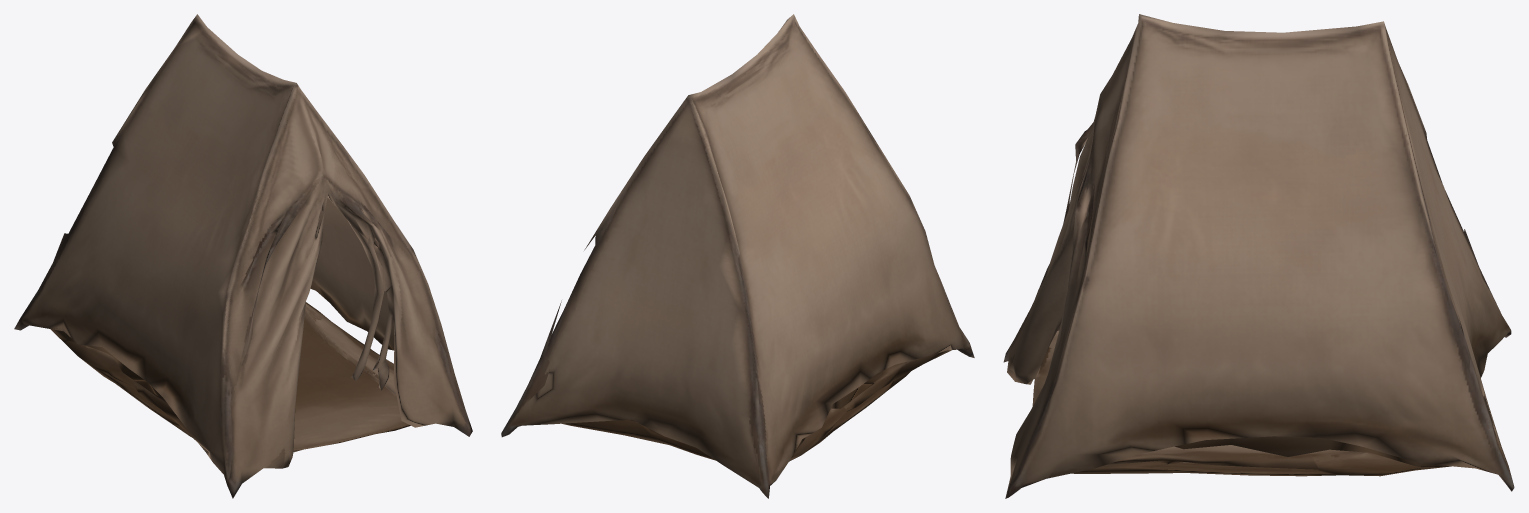
File: tent.glb
The picture shows the model from 3 angles, left to right: view 1: azimuth 30°, elevation 25°; view 2: azimuth 150°, elevation 25°; view 3: azimuth 270°, elevation 25°; orthographic projection. The views are drawn at different scales.
Visible parts, largest first — view 1: geometry_0; view 2: geometry_0; view 3: geometry_0.
Part boxes in pixels (x1=…): geometry_0: x1=14, y1=14, x2=472, y2=498; geometry_0: x1=501, y1=14, x2=974, y2=498; geometry_0: x1=1003, y1=14, x2=1514, y2=498.
Bounding box in the file's own units: 0.7063 × 0.9005 × 0.994.
Materials: 1 (1 with a texture image).
